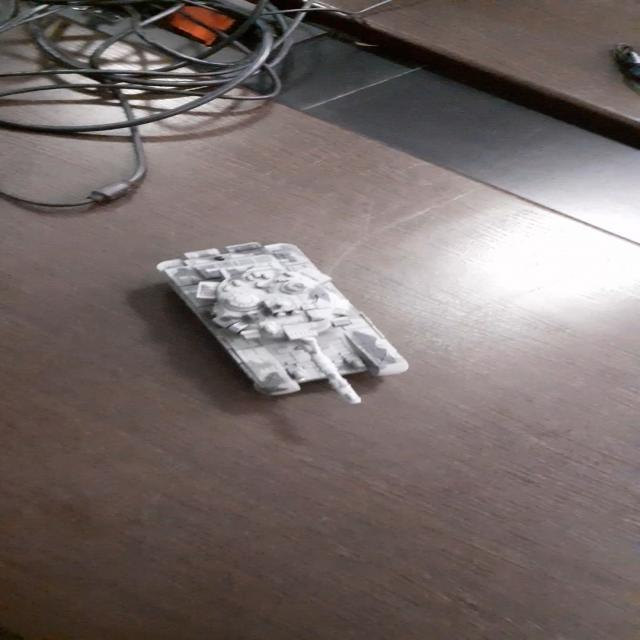tank: (146, 237, 424, 410)
